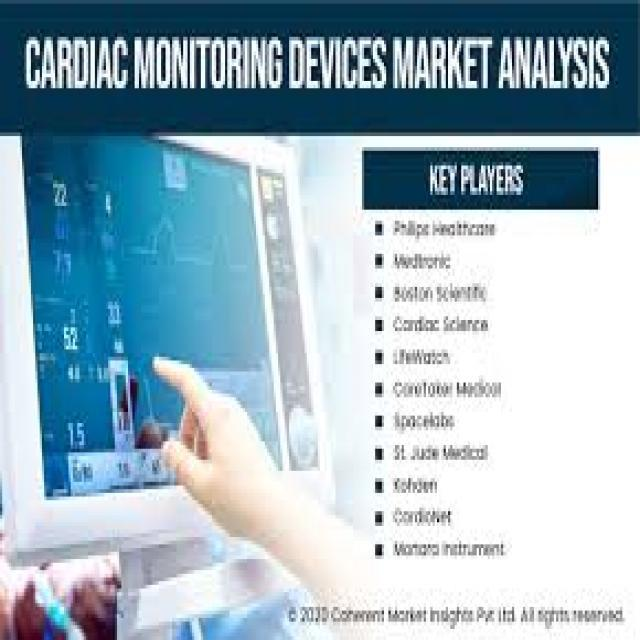cardiac_monitor: (9, 156, 317, 515)
